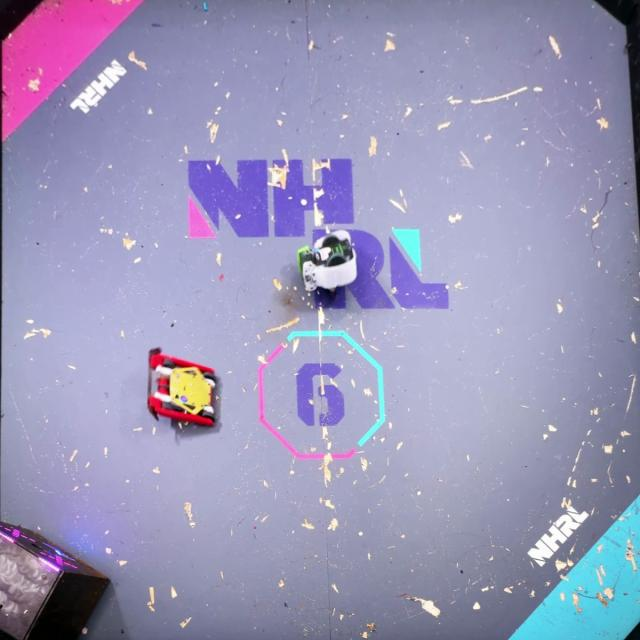housebot: (0, 518, 112, 640)
robot: (147, 344, 220, 430), (298, 230, 359, 296)
